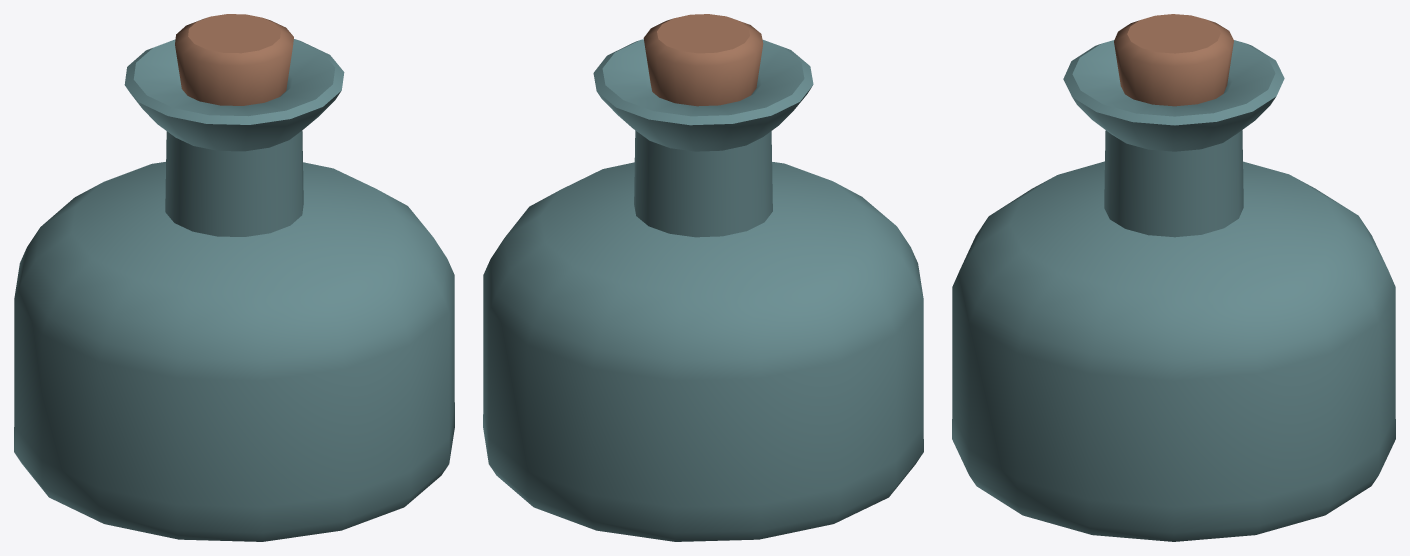
File: SE_106_small_bottle.glb
The picture shows the model from 3 angles, left to right: view 1: azimuth 30°, elevation 25°; view 2: azimuth 150°, elevation 25°; view 3: azimuth 270°, elevation 25°; orthographic projection.
Visible parts, largest first — view 1: bottle; view 2: bottle; view 3: bottle.
Boxes of the visible parts, box(x1,y1,x2,y2) form: bottle: box(14, 14, 454, 541); bottle: box(483, 14, 923, 541); bottle: box(952, 14, 1395, 541).
Bounding box in the file's own units: 0.3555 × 0.3692 × 0.3555.
